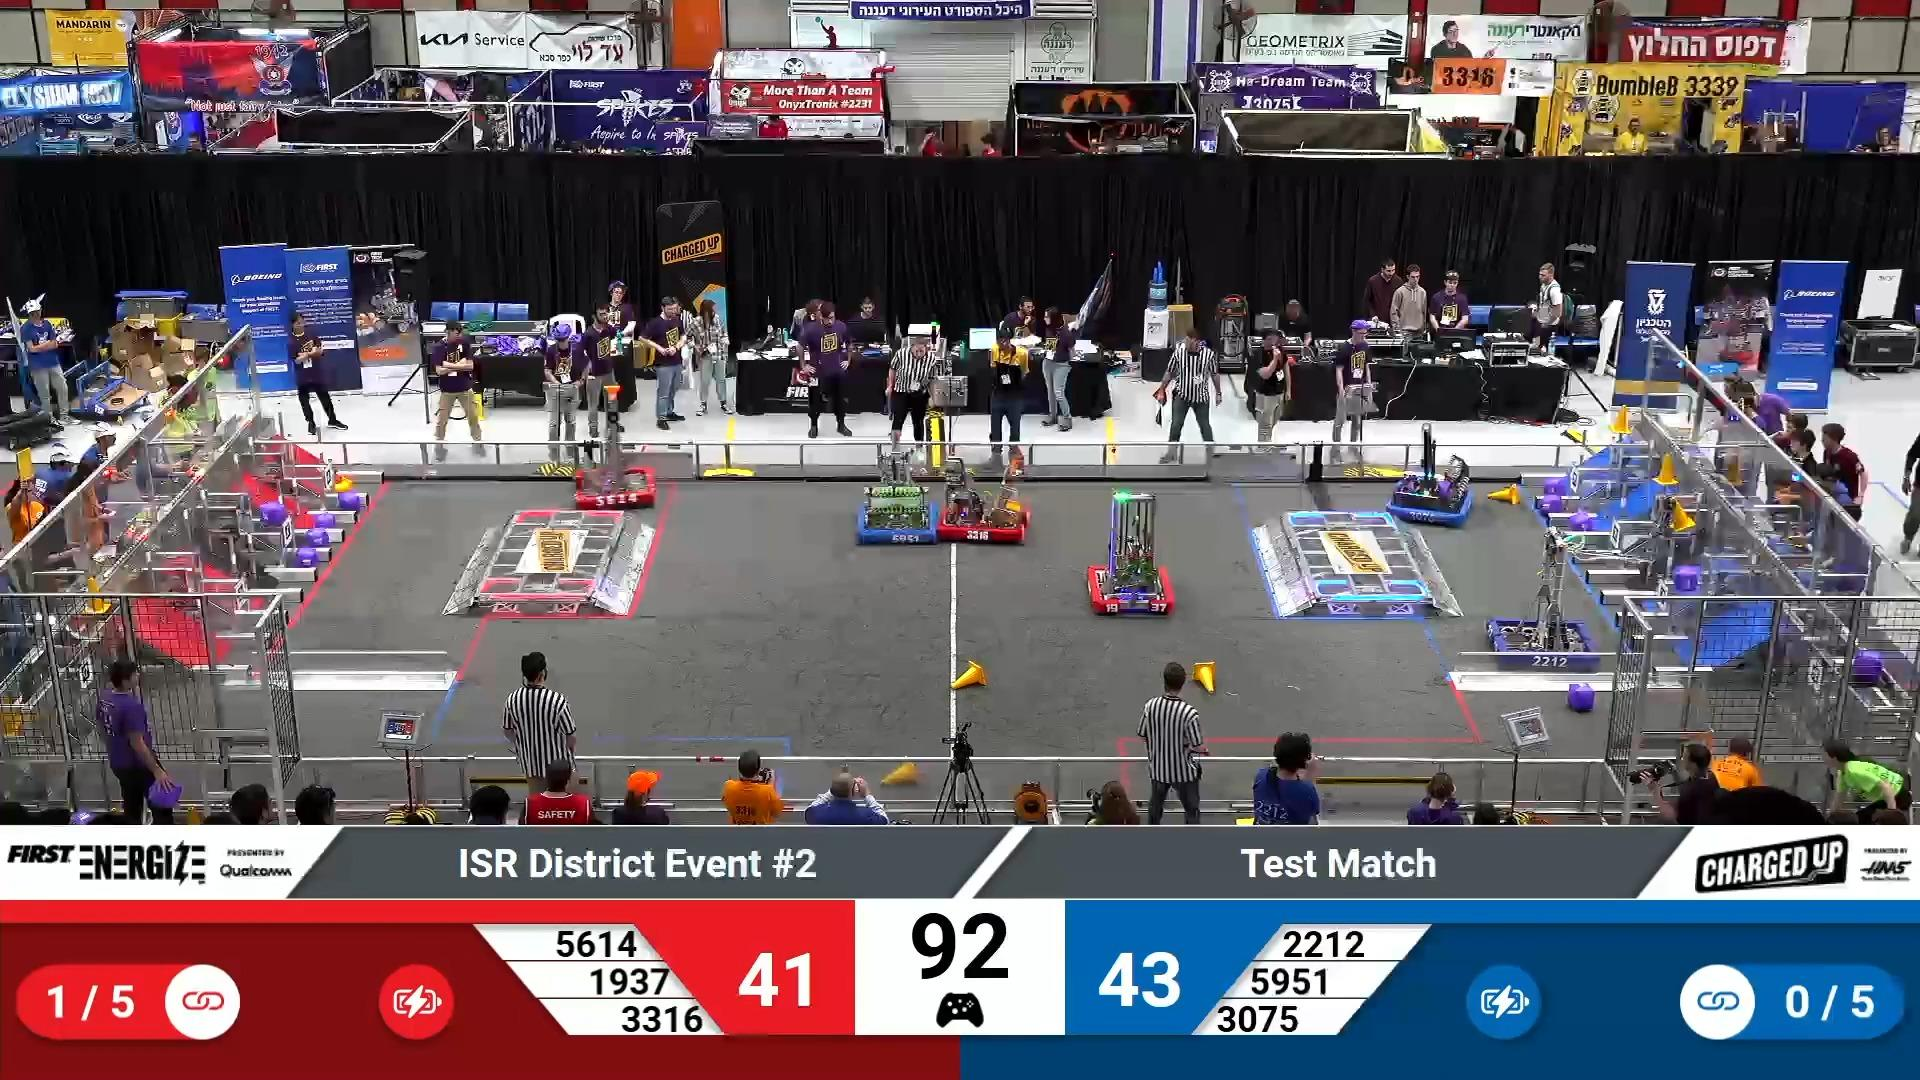robot: (1485, 525, 1596, 667), (1085, 487, 1174, 616), (571, 380, 655, 506), (1385, 419, 1472, 524), (936, 444, 1030, 538), (855, 442, 938, 546)
